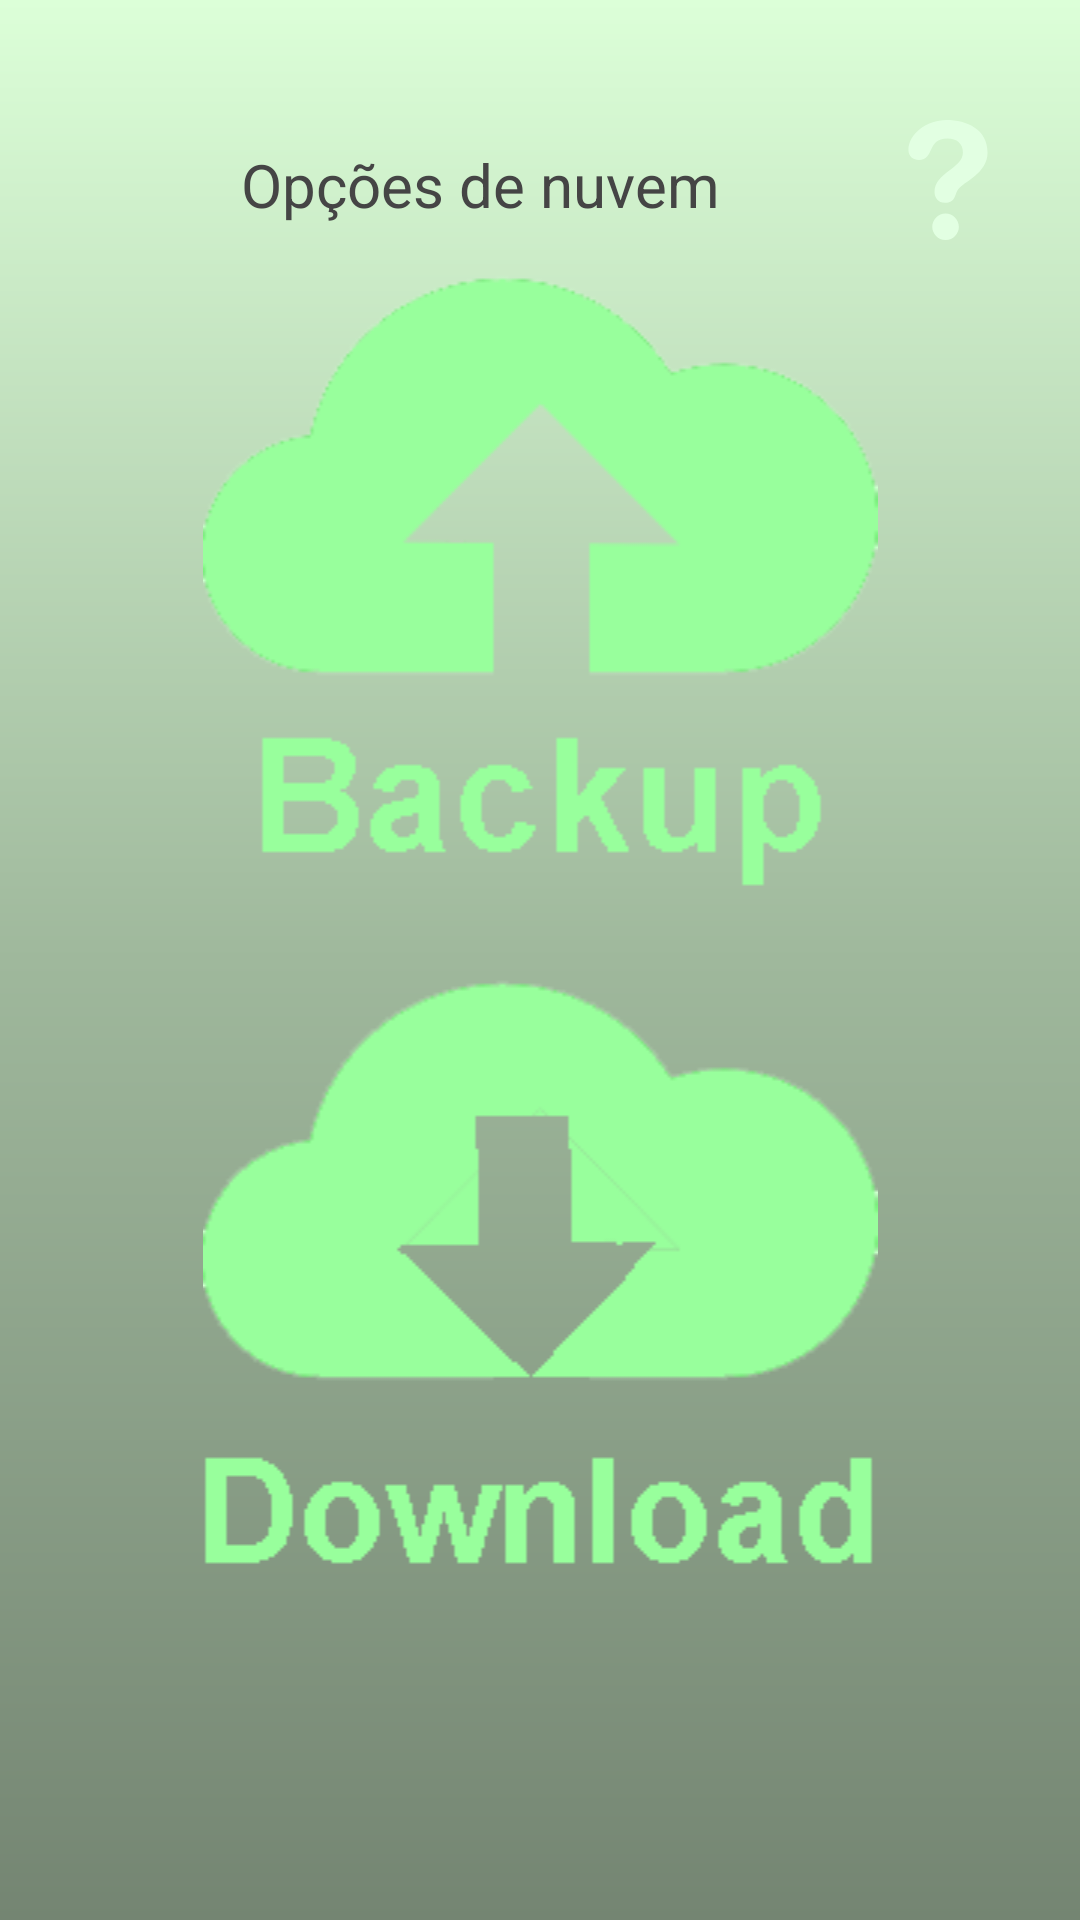

Where icons sit on this 1080*1920 app screen, as (x1=x1, y1=y1, x2=x2, y2=y2):
interogacao: (x1=909, y1=120, x2=987, y2=240)
